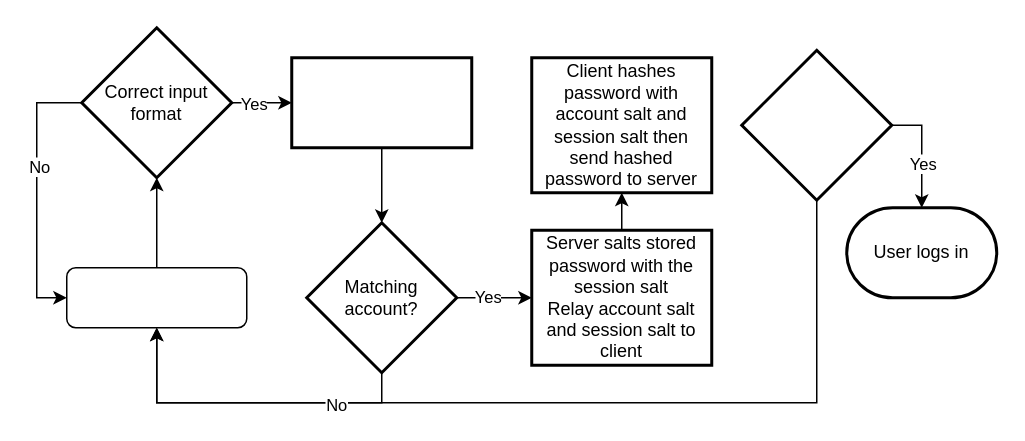
This 1025x441 diagram has some shape labels left out. The shapes that lost their labels are listed below. From the top down, each one's centre as x and y in pixels, then its label:
At [381,102]: "Send Server email address".
At [816,124]: "Matching hash values?".
At [156,297]: "User submits login details".
